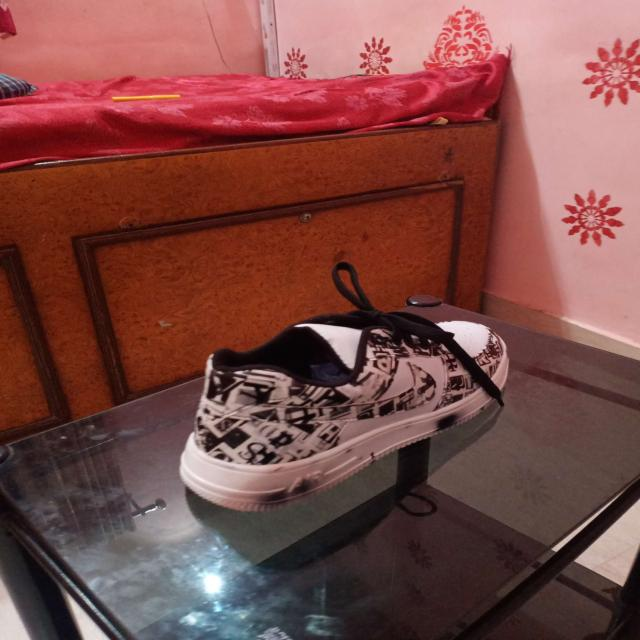shoes: (178, 306, 513, 514)
